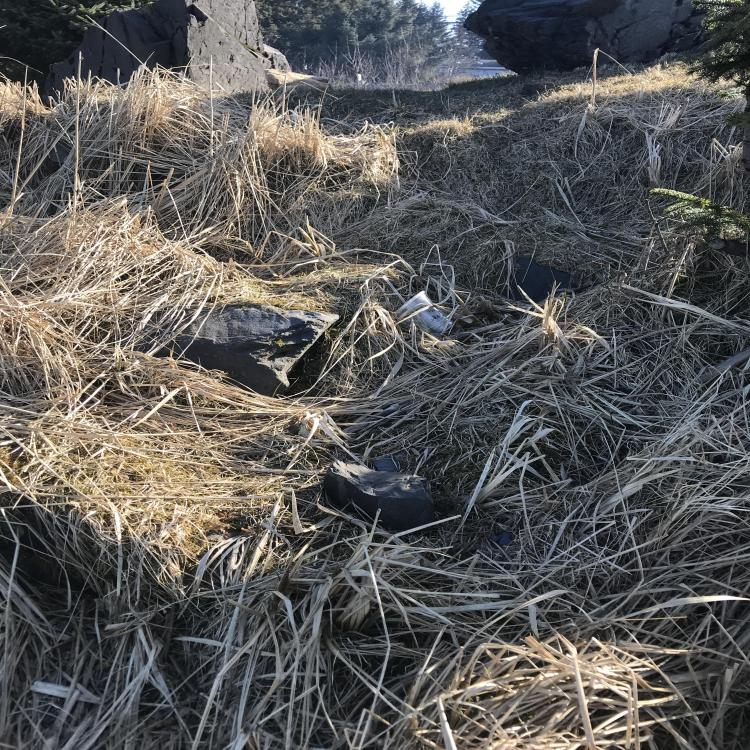Disposable plastic cup: (394, 290, 454, 337)
Plastic lid: (394, 290, 426, 315)
